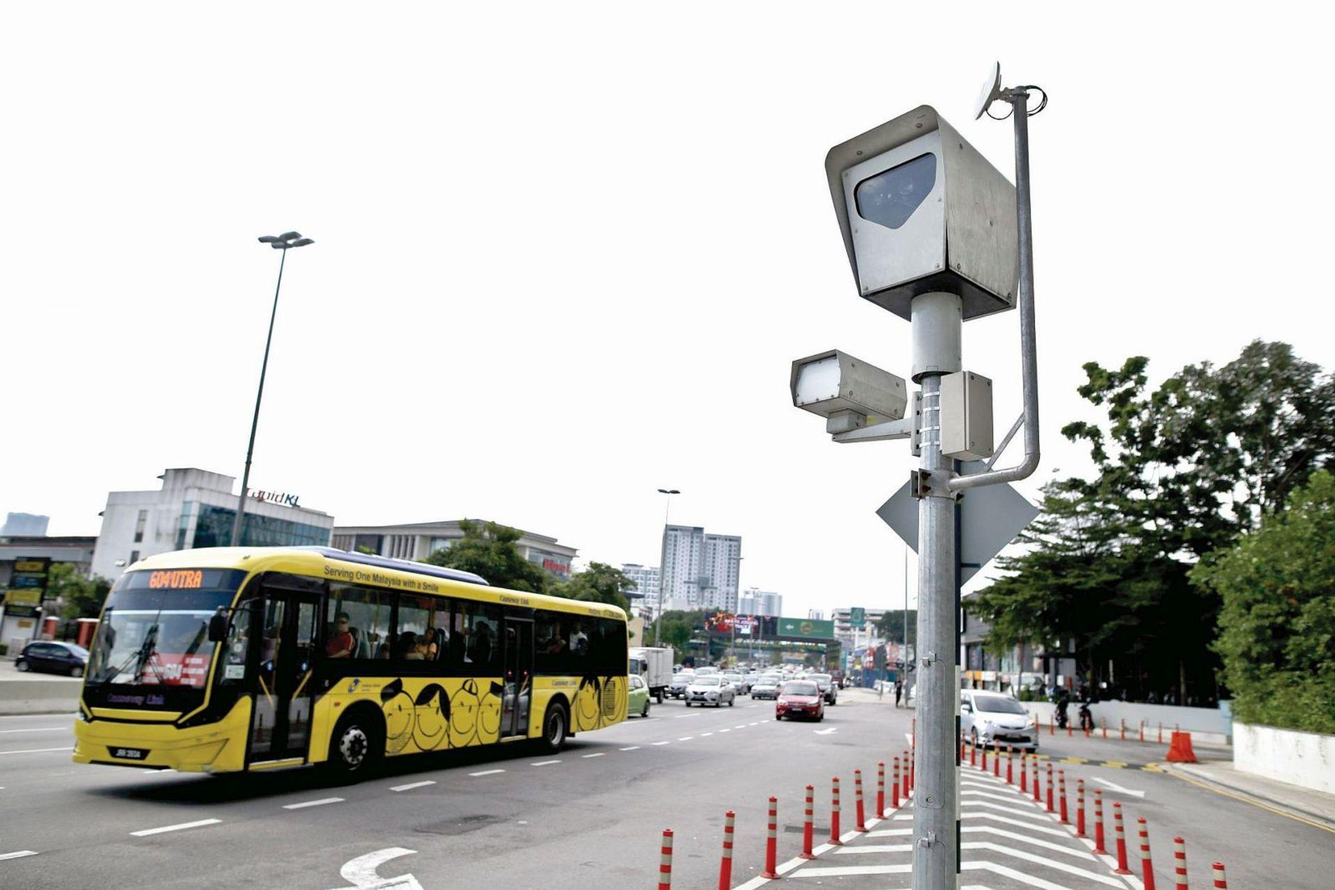Monitor: (823, 103, 1021, 324), (770, 321, 920, 465)
